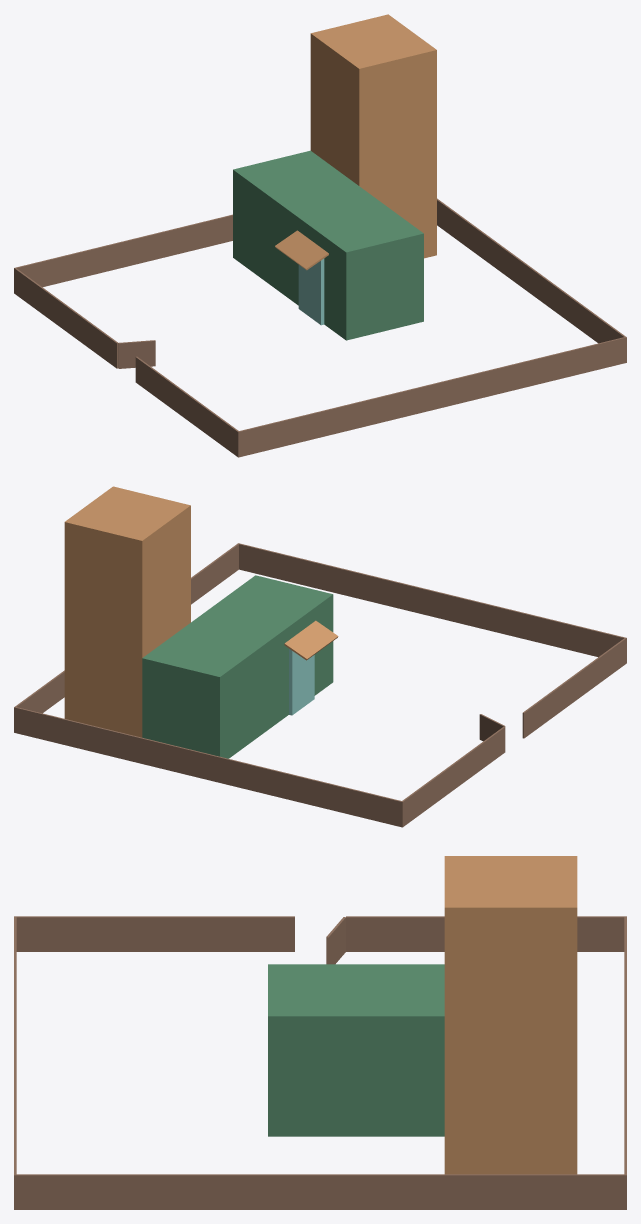
Rendered from SM_Farm_01.fbx.
3 renders of one model, top to bottom at view 1: azimuth 30°, elevation 25°; view 2: azimuth 150°, elevation 25°; view 3: azimuth 270°, elevation 25°, orthographic. The views are drawn at different scales.
Visible parts, largest first — view 1: SM_Farm_01; view 2: SM_Farm_01; view 3: SM_Farm_01.
Boxes of the visible parts, x1,y1,x2,y2 form: SM_Farm_01: (14,14,626,457); SM_Farm_01: (14,486,626,827); SM_Farm_01: (14,856,626,1209).
Size of the model in its own units: 1200 by 606 by 1200.
